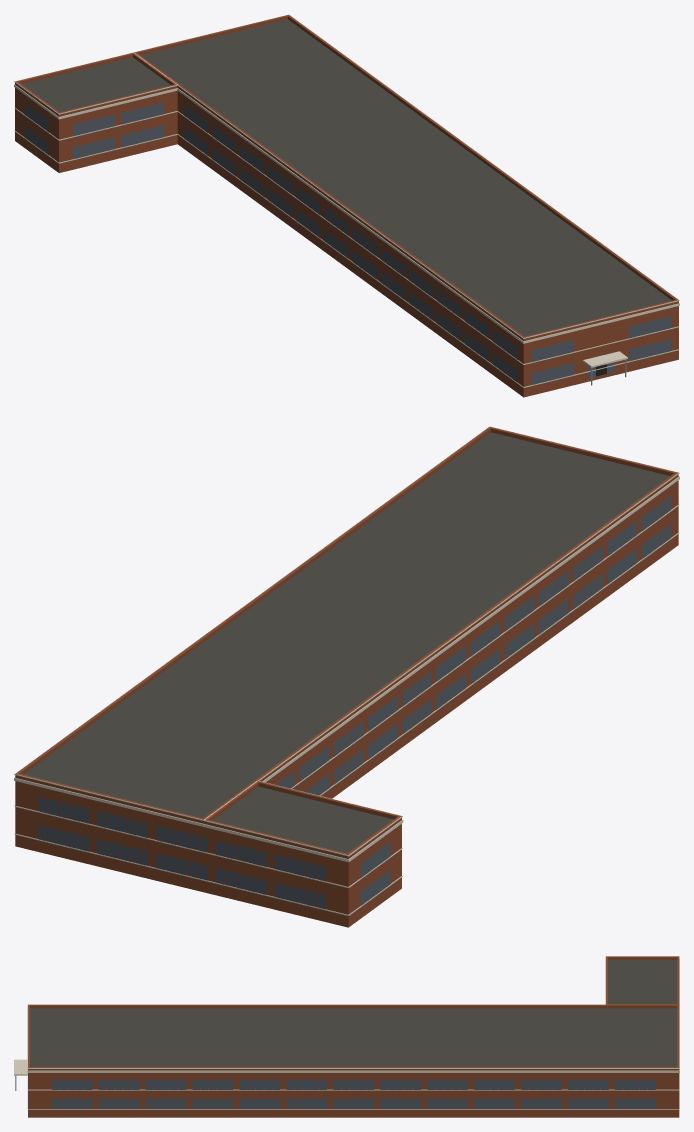
The model's file is sherwood-elementary.glb.
3 views of the same model, one above another, from view 1: azimuth 30°, elevation 25°; view 2: azimuth 150°, elevation 25°; view 3: azimuth 270°, elevation 25° (orthographic). The views are drawn at different scales.
Parts seen in each view (by area): view 1: sherwood_elementary; view 2: sherwood_elementary; view 3: sherwood_elementary.
Boxes of the visible parts, bbox=[...] form: sherwood_elementary: bbox=[14, 14, 679, 397]; sherwood_elementary: bbox=[14, 426, 679, 927]; sherwood_elementary: bbox=[14, 956, 679, 1117].
Size of the model in its own units: 45.24 by 9.35 by 114.
